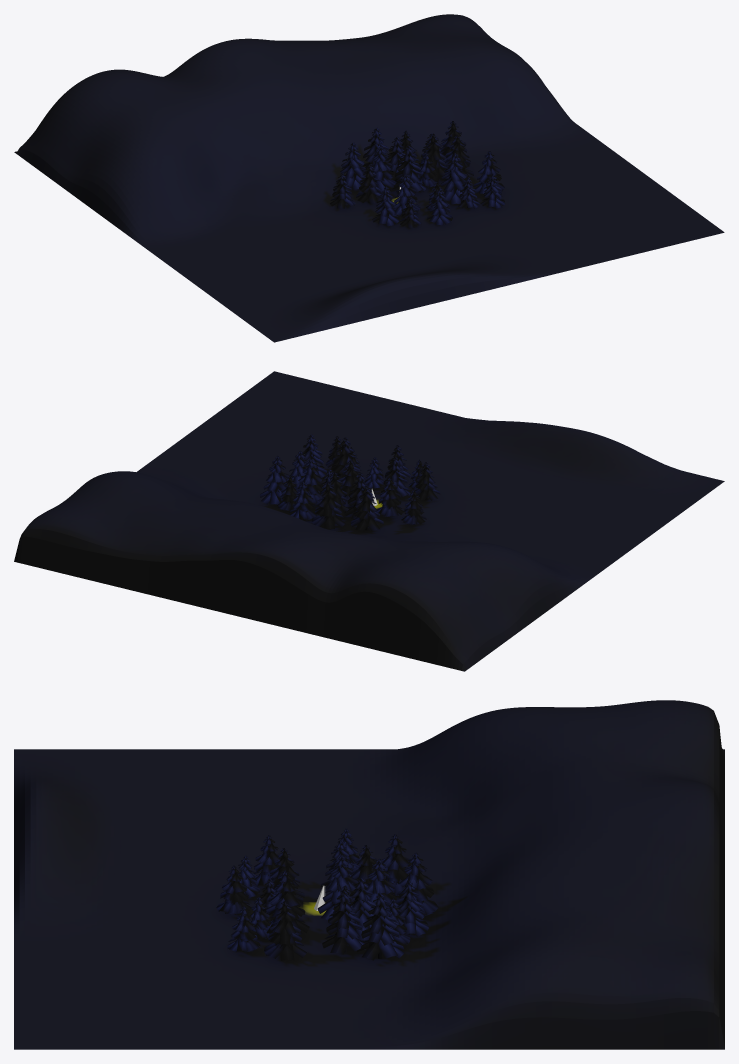
The model's file is TestTerrain.fbx.
3 renders of one model, top to bottom at view 1: azimuth 30°, elevation 25°; view 2: azimuth 150°, elevation 25°; view 3: azimuth 270°, elevation 25°, orthographic. The views are drawn at different scales.
Parts seen in each view (by area): view 1: Terrain, Tree.013, Tree.001, Tree.012, Tree.003, Tree.016, Tree.021, Tree.002, Tree.018, Tree.009, Tree.019, Tree.010; view 2: Terrain, Tree.004, Tree.001, Tree.008, Tree.002, Tree.005, Tree.009, Tree.021, Tree.013, Tree.018, Tree, Tree.016; view 3: Terrain, Tree.008, Tree.010, Tree.016, Tree.013, Tree.004, Tree.012, Tree.005, Tree.001, Tree.019, Tree.017, Tree.009 (+5 smaller).
Boxes of the visible parts, <box> form: Terrain: <box>14,14,724,342</box>; Tree.013: <box>440,153,467,204</box>; Tree.001: <box>336,142,365,189</box>; Tree.012: <box>392,145,426,193</box>; Tree.003: <box>371,146,396,192</box>; Tree.016: <box>473,151,504,194</box>; Tree.021: <box>372,186,399,226</box>; Tree.002: <box>356,163,382,204</box>; Tree.018: <box>394,173,420,215</box>; Tree.009: <box>418,133,447,180</box>; Tree.019: <box>427,188,452,225</box>; Tree.010: <box>444,135,473,179</box>; Terrain: <box>14,371,724,671</box>; Tree.004: <box>311,482,345,529</box>; Tree.001: <box>350,485,383,531</box>; Tree.008: <box>259,456,288,504</box>; Tree.002: <box>375,477,403,516</box>; Tree.005: <box>289,481,316,520</box>; Tree.009: <box>296,458,323,505</box>; Tree.021: <box>415,462,440,500</box>; Tree.013: <box>331,437,359,481</box>; Tree.018: <box>381,457,410,497</box>; Tree: <box>401,489,426,524</box>; Tree.016: <box>302,434,326,477</box>; Terrain: <box>14,700,724,1049</box>; Tree.008: <box>357,893,404,960</box>; Tree.010: <box>322,890,365,954</box>; Tree.016: <box>264,901,306,960</box>; Tree.013: <box>266,870,309,934</box>; Tree.004: <box>395,852,438,915</box>; Tree.012: <box>317,854,358,920</box>; Tree.005: <box>397,881,428,936</box>; Tree.001: <box>381,834,411,895</box>; Tree.019: <box>216,865,251,914</box>; Tree.017: <box>227,906,260,952</box>; Tree.009: <box>348,877,376,941</box>.
Size of what is drawn, in the model's own units: 25600 by 3779 by 25600.
